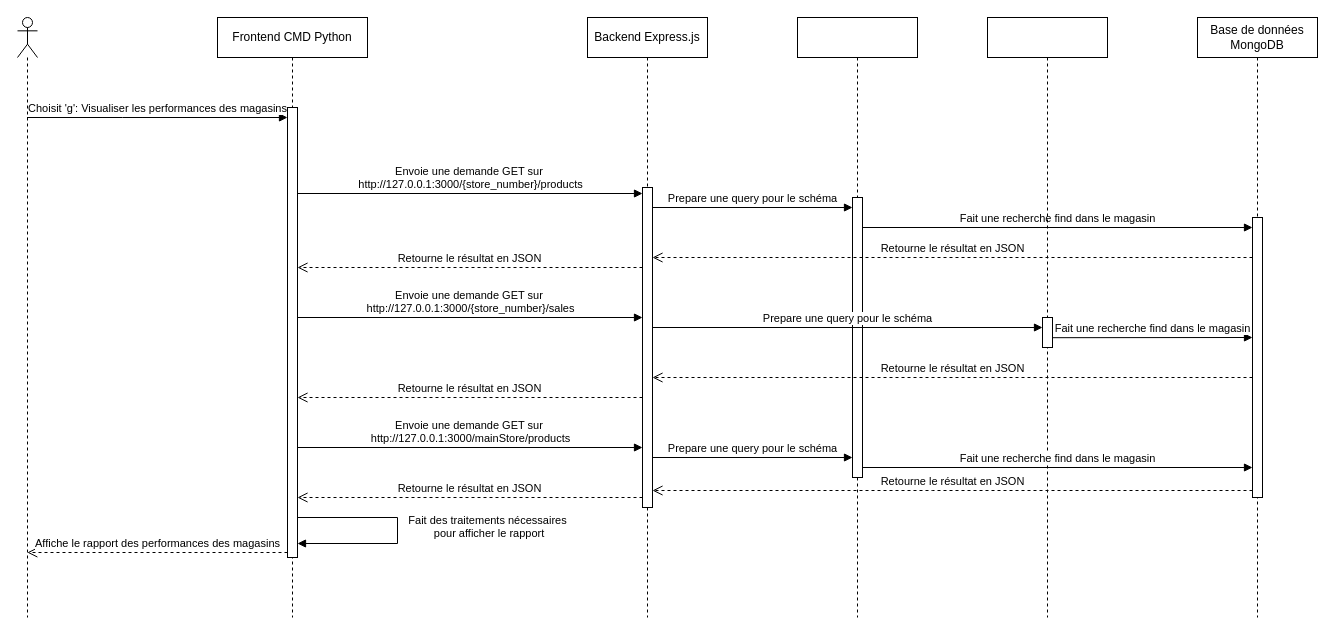
Image size: 1335x635. Some labels were removed from this diagram. The centre of each missing label's shape, as x and y in pixels:
StoreInventory: point (857, 317)
StoreSale: point (1047, 317)
